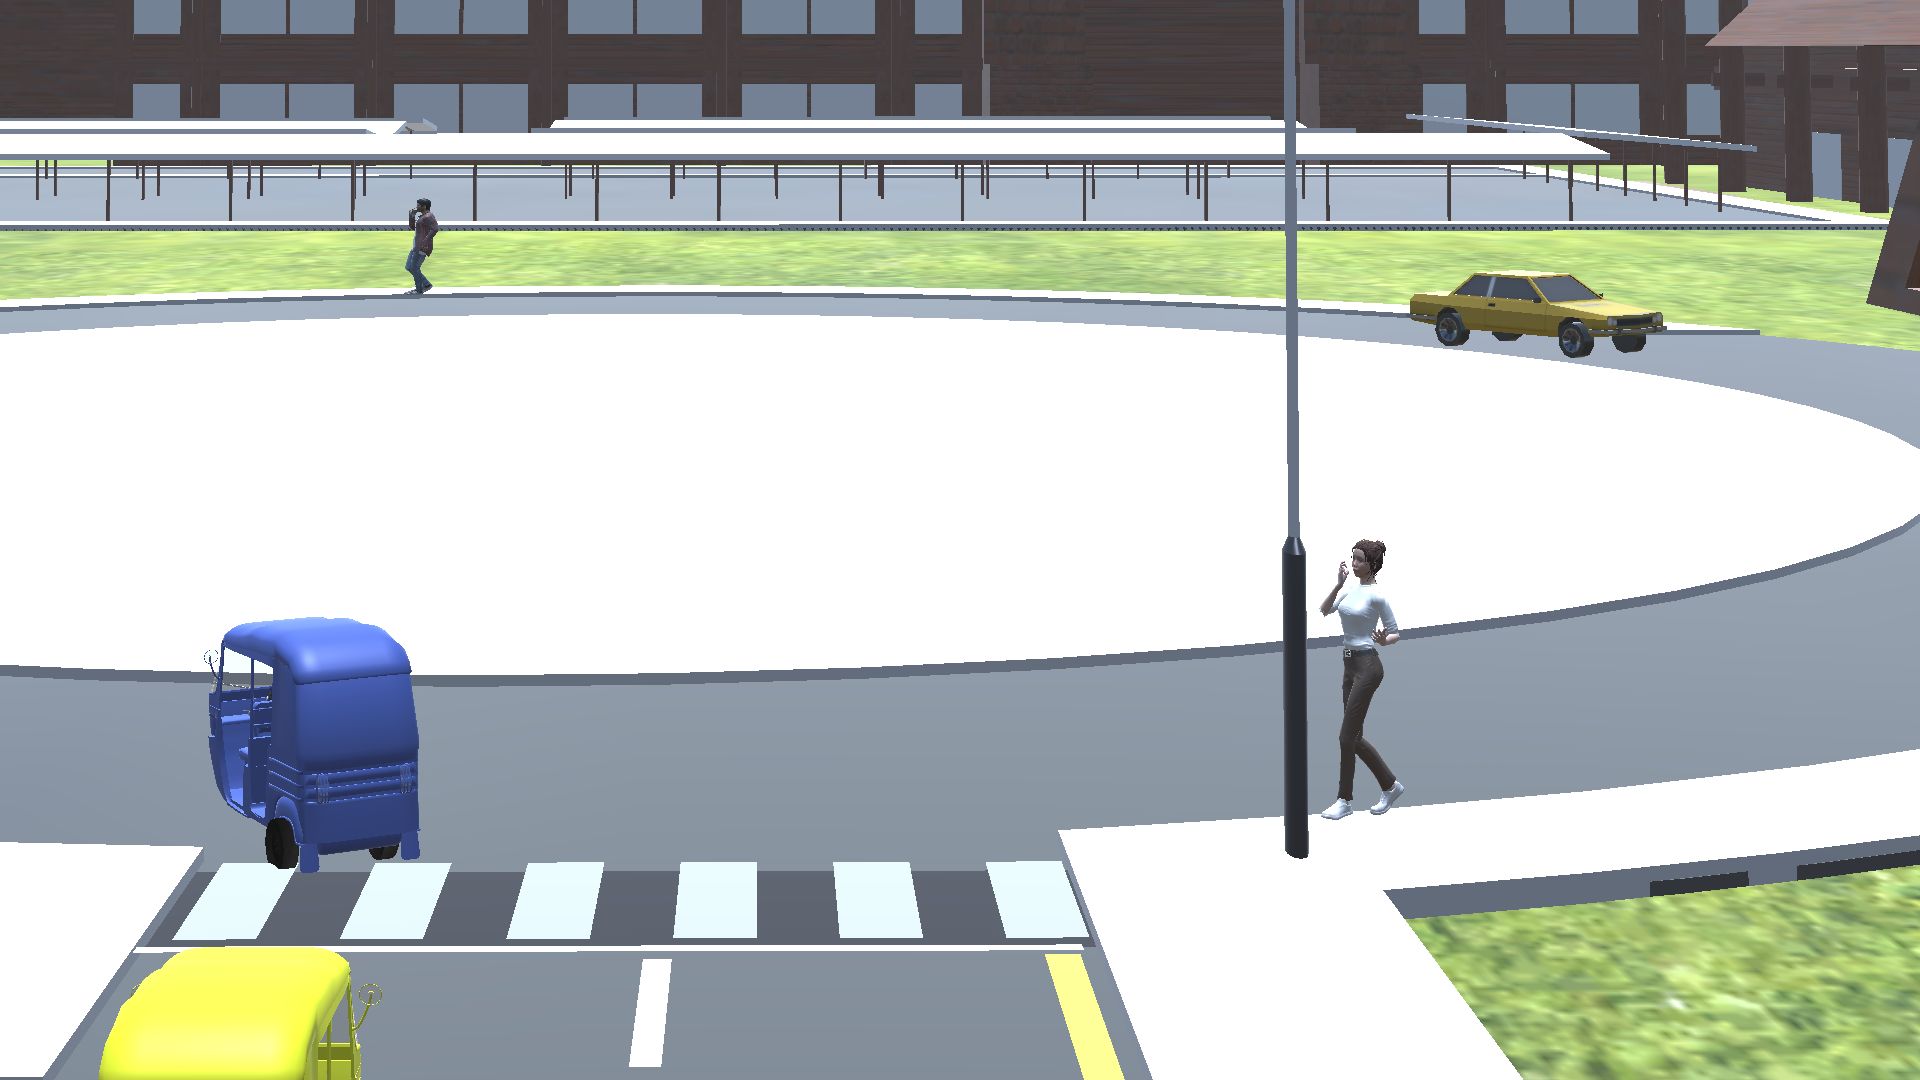pedestrian: (1324, 537, 1417, 836), (401, 189, 444, 302)
